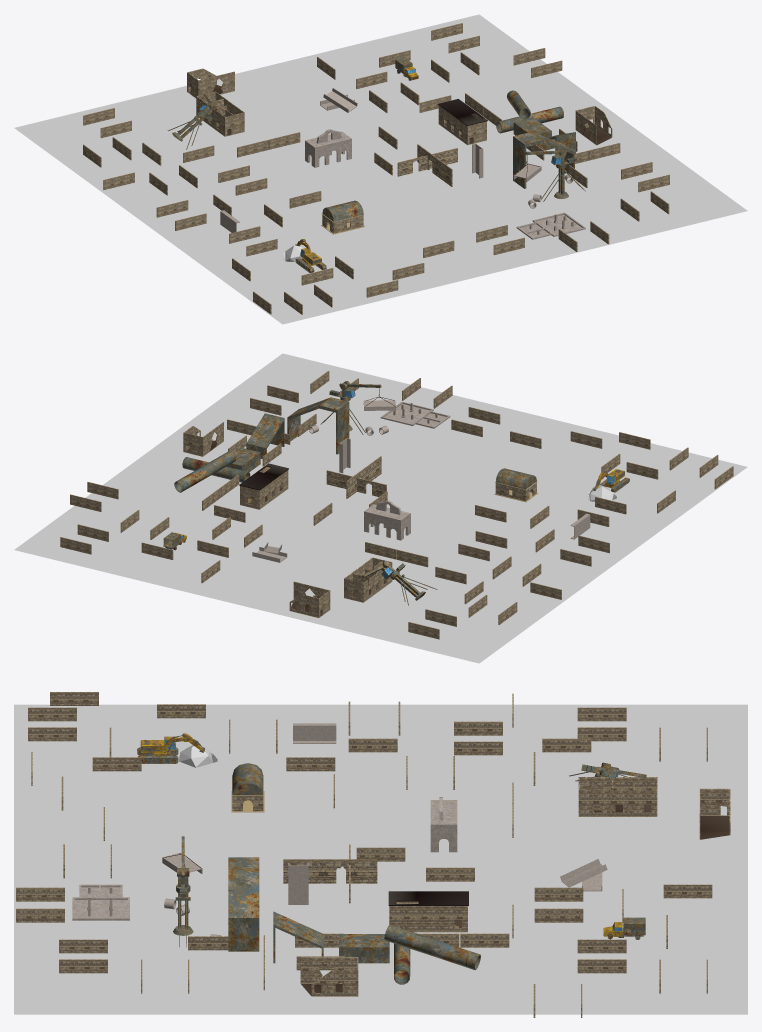
The model's file is Location02.fbx.
3 views of the same model, one above another, from view 1: azimuth 30°, elevation 25°; view 2: azimuth 150°, elevation 25°; view 3: azimuth 270°, elevation 25° (orthographic). The views are drawn at different scales.
Parts seen in each view (by area): view 1: Plane, Cube.019, Cube.003, Cube.034, Cube.004, Cube.023, Cube.136, Cube.035, Cube.142, Cube.113, Cube.144, Cube.079 (+5 smaller); view 2: Plane, Cube.019, Cube.003, Cube.034, Cube.004, Cube.136, Cube.023, Cube.113, Cube.141, Cube.035, Cube.142, Cylinder.001 (+6 smaller); view 3: Plane, Cube.019, Cube.003, Cube.034, Cube.136, Cube.142, Cube.035, Cube.023, Cylinder.001, Cube.113, Cube.004, Cube.114 (+13 smaller).
Boxes of the visible parts, x1,y1,x2,y2 form: Plane: (14,14,747,324); Cube.019: (83,23,669,314); Cube.003: (438,99,487,145); Cube.034: (196,91,244,136); Cube.004: (305,129,351,167); Cube.023: (397,144,457,186); Cube.136: (513,132,574,188); Cube.035: (516,212,585,239); Cube.142: (575,106,612,145); Cube.113: (187,68,234,98); Cube.144: (515,148,585,201); Cube.079: (167,94,217,149); Plane: (14,353,747,663); Cube.019: (60,371,733,639); Cube.003: (239,463,288,509); Cube.034: (344,557,392,602); Cube.004: (364,500,410,540); Cube.136: (287,397,349,454); Cube.023: (326,456,386,498); Cube.113: (289,581,330,617); Cube.141: (246,413,284,458); Cube.035: (380,401,450,428); Cube.142: (183,422,223,456); Cylinder.001: (174,451,235,492); Plane: (14,704,747,1014); Cube.019: (16,692,712,1017); Cube.003: (388,891,468,932); Cube.034: (578,777,657,816); Cube.136: (228,857,259,951); Cube.142: (300,957,358,996); Cube.035: (72,884,129,920); Cube.023: (283,844,377,903); Cylinder.001: (384,924,480,969); Cube.113: (699,788,730,839); Cube.004: (430,797,457,852); Cube.114: (339,934,389,963).
Bounding box in the file's own units: 15151 × 2039 × 15000.
